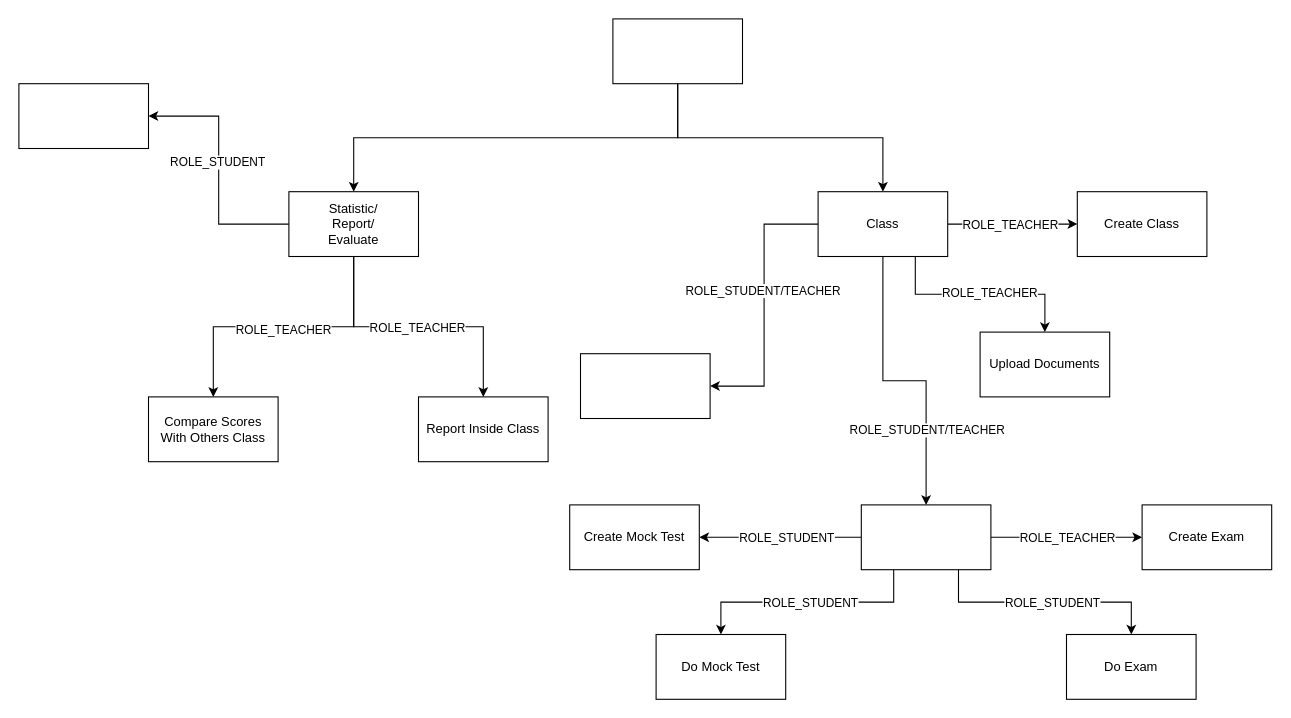
This 1291x718 diagram has some shape labels left out. Here are the shapes that lost their labels. From the top down, the box of each, then its label:
(612, 18, 742, 84): Log in (OAuth2) Domain hvnh.edu.vn
(18, 83, 148, 148): Compare Exams Student Doing
(579, 353, 710, 418): Join Class
(860, 504, 991, 570): Exam
